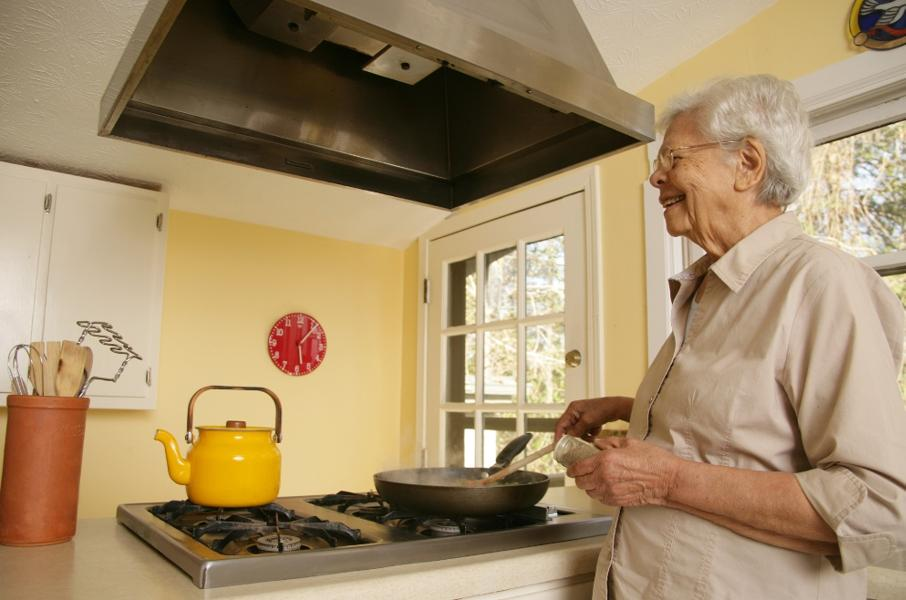person: (550, 77, 905, 600)
